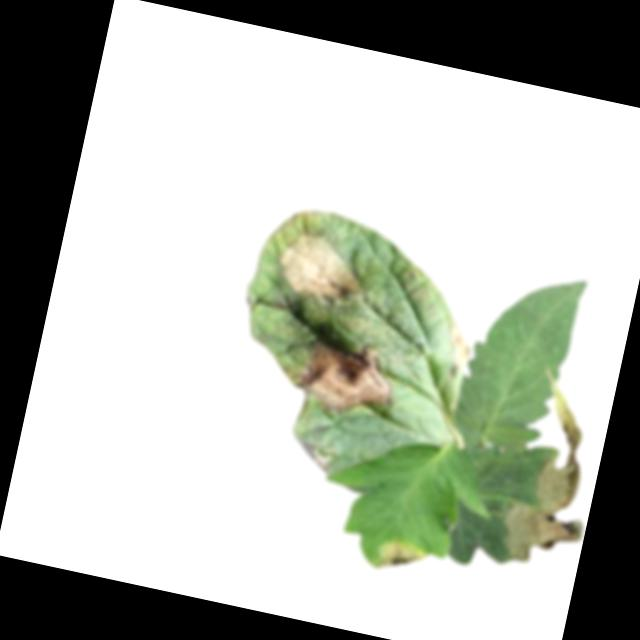Late_blight: (485, 366, 615, 575), (287, 328, 402, 420), (268, 221, 374, 315), (368, 535, 429, 578), (442, 320, 477, 373), (291, 436, 336, 476)
